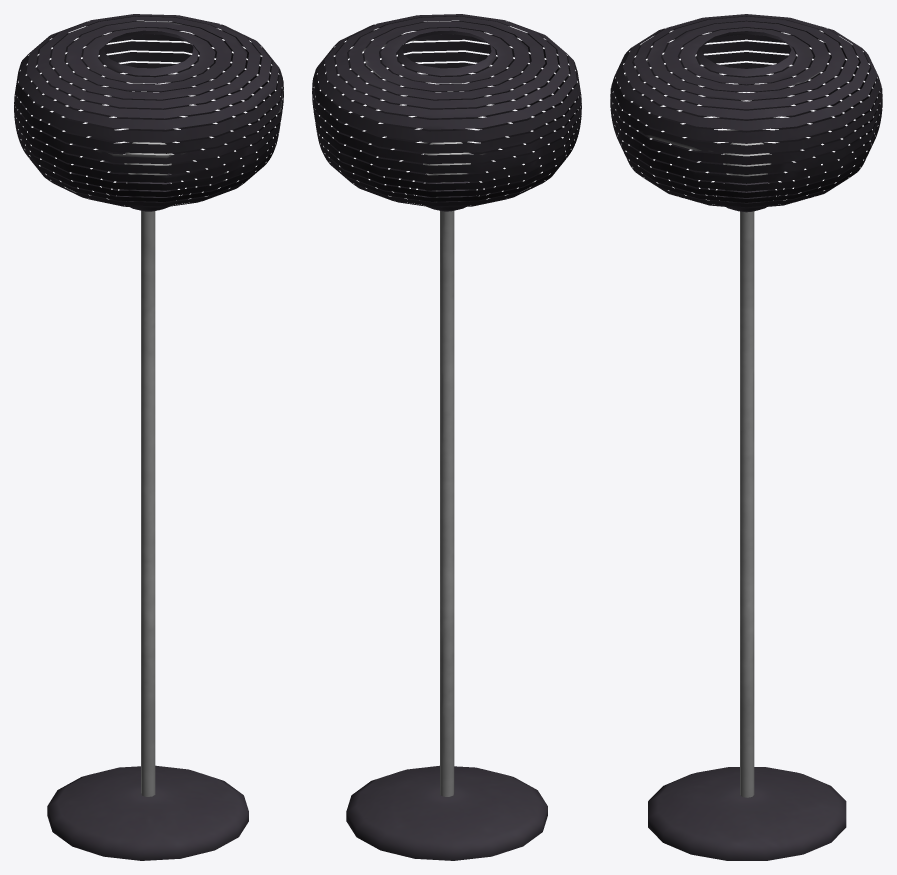
Rendered from Light_4.fbx.
3 renders of one model, left to right at view 1: azimuth 30°, elevation 25°; view 2: azimuth 150°, elevation 25°; view 3: azimuth 270°, elevation 25°, orthographic.
Visible parts, largest first — view 1: SM_lamp_standing; view 2: SM_lamp_standing; view 3: SM_lamp_standing.
Part boxes in pixels (box(x1,y1,x2,y2)): SM_lamp_standing: box(14, 14, 283, 860); SM_lamp_standing: box(312, 14, 581, 860); SM_lamp_standing: box(610, 14, 882, 860).
Bounding box in the file's own units: 0.4556 × 1.42 × 0.4556.
Materials: 1 (1 with a texture image).
